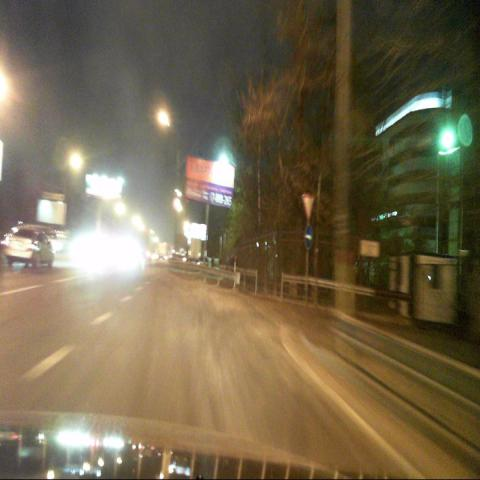4_1_2_1: (304, 224, 313, 249)
